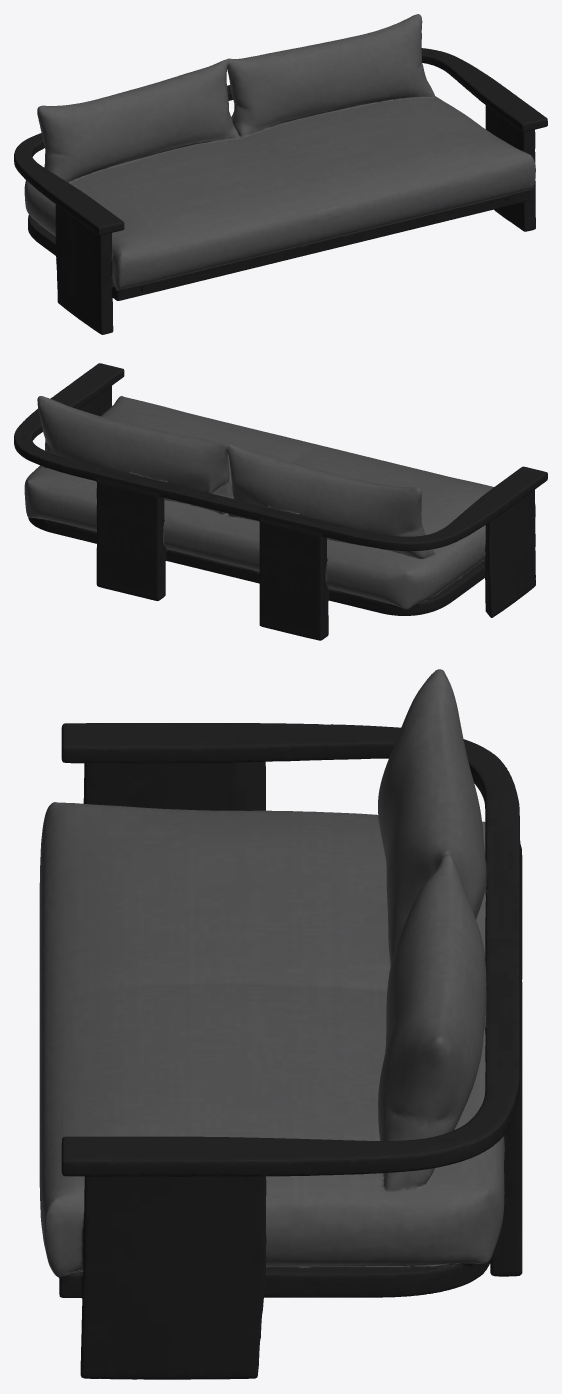
The model's file is uploaded-sofa-v2.glb.
The picture shows the model from 3 angles, top to bottom: view 1: azimuth 30°, elevation 25°; view 2: azimuth 150°, elevation 25°; view 3: azimuth 270°, elevation 25°; orthographic projection. The views are drawn at different scales.
Visible parts, largest first — view 1: world; view 2: world; view 3: world.
Part boxes in pixels (x1,y1,x2,y2): world: (14,14,547,334); world: (14,363,547,640); world: (39,669,522,1379).
Bounding box in the file's own units: 1 × 0.3355 × 0.4667.
1 material, 1 textured.
